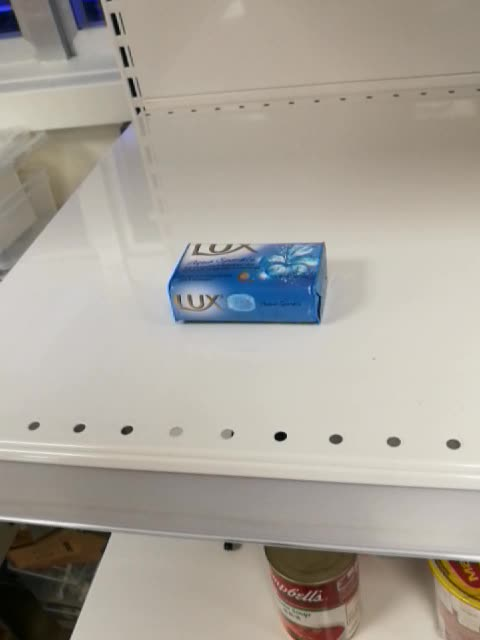soap: (168, 241, 326, 324)
